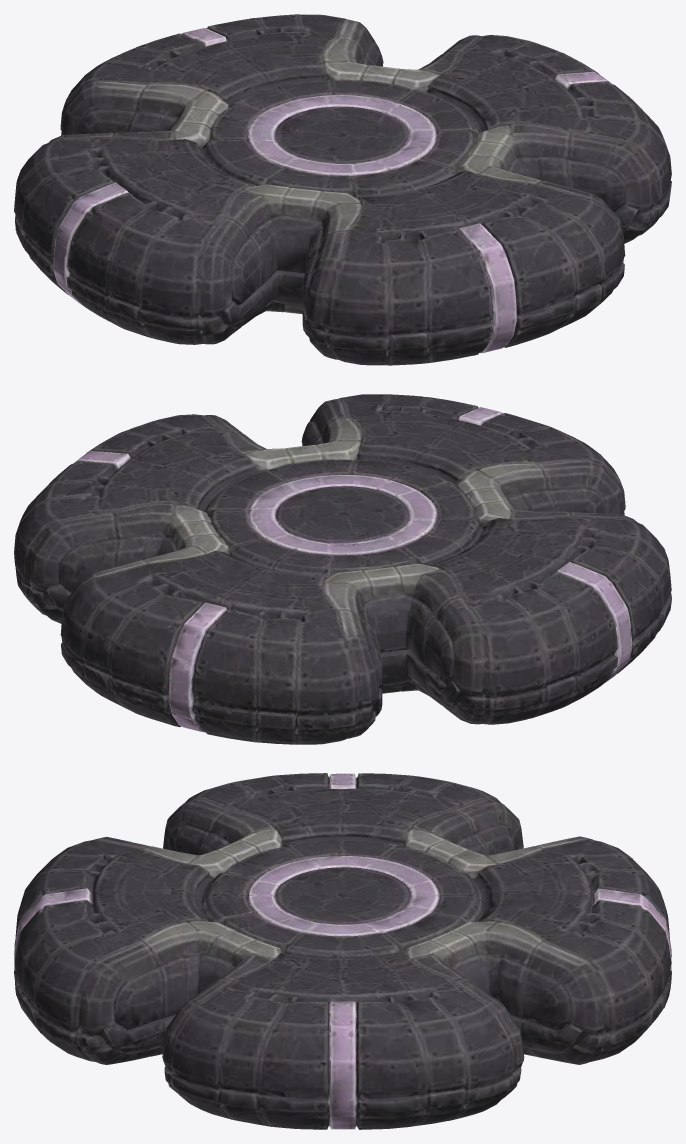
The model's file is arc-hush-lean.glb.
3 renders of one model, top to bottom at view 1: azimuth 30°, elevation 25°; view 2: azimuth 150°, elevation 25°; view 3: azimuth 270°, elevation 25°, orthographic.
Parts seen in each view (by area): view 1: chassis; view 2: chassis; view 3: chassis.
Part boxes in pixels (x1,y1,x2,y2): chassis: (14, 14, 671, 365); chassis: (14, 394, 671, 744); chassis: (14, 773, 671, 1129).
Size of the model in its own units: 0.9897 by 0.1991 by 0.9896.
Materials: 1 (1 with a texture image).
